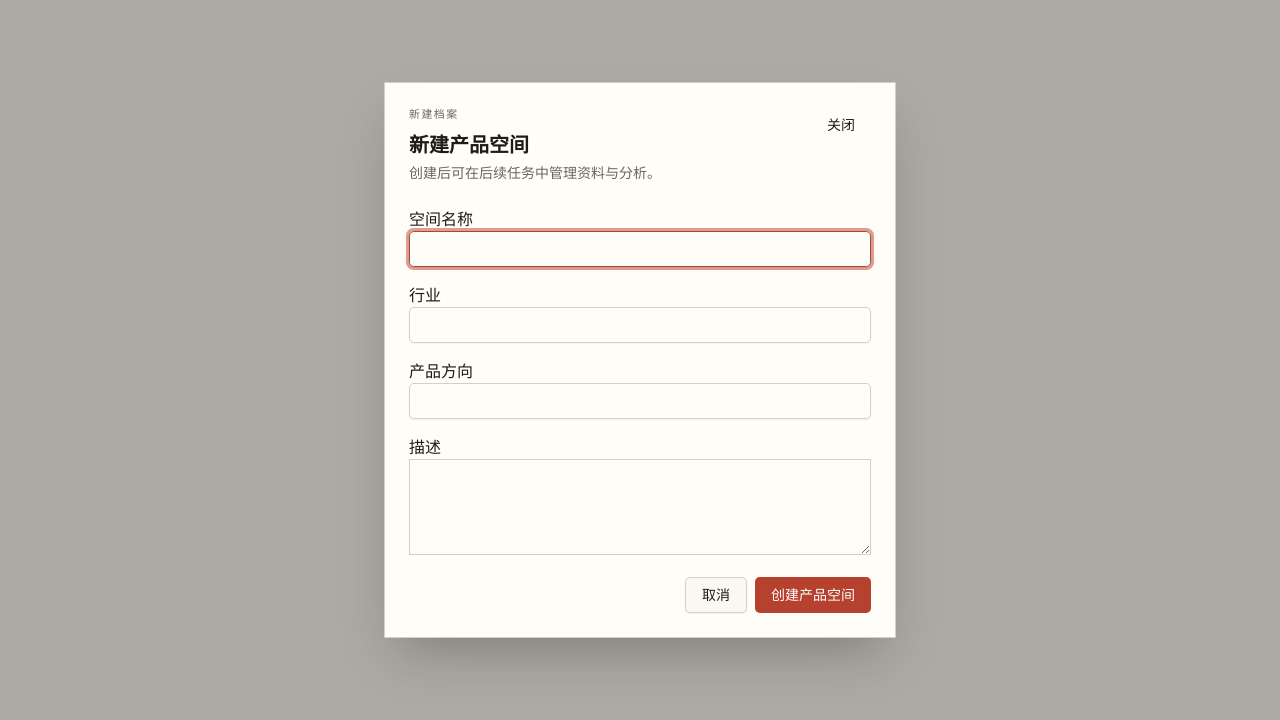
Test: SpaceCreateDialog › keeps input when the backend returns a Chinese error
The image size is (1280, 720).
In the field labelled "空间名称": [640, 249] box [409,231,871,267], type "测试空间"
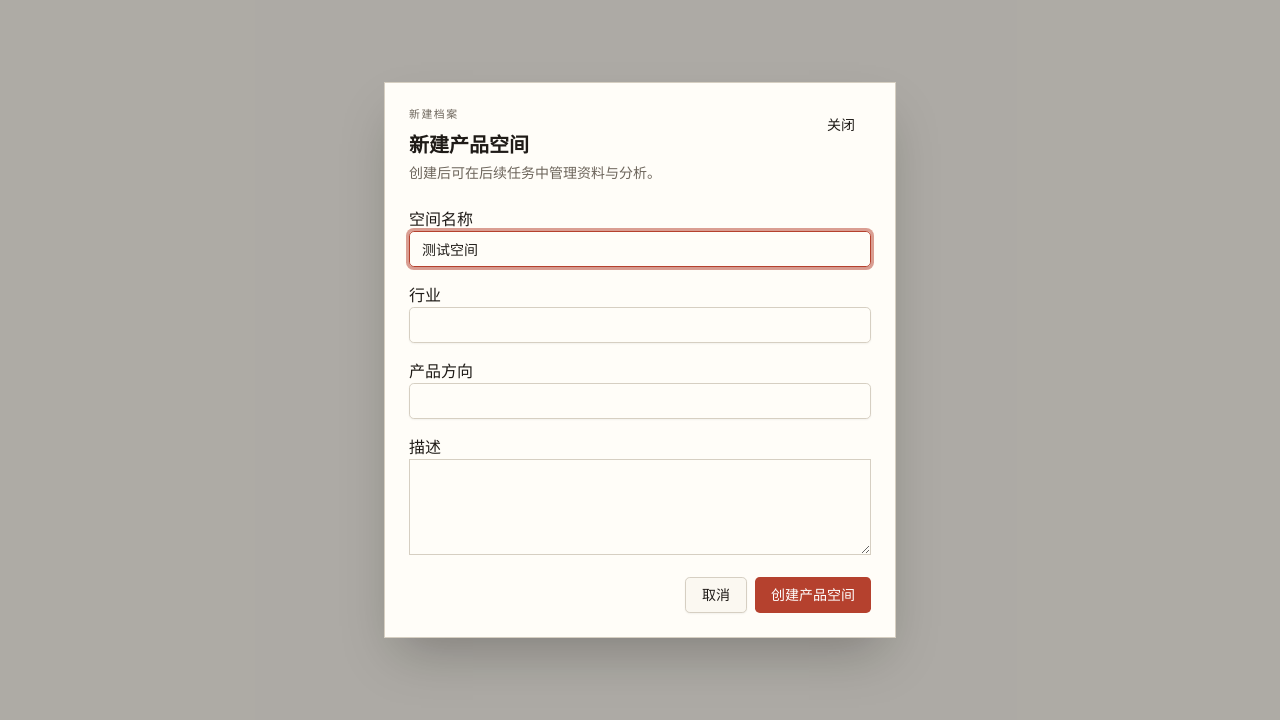
Click the button "创建产品空间": [813, 595] box [755,577,871,613]
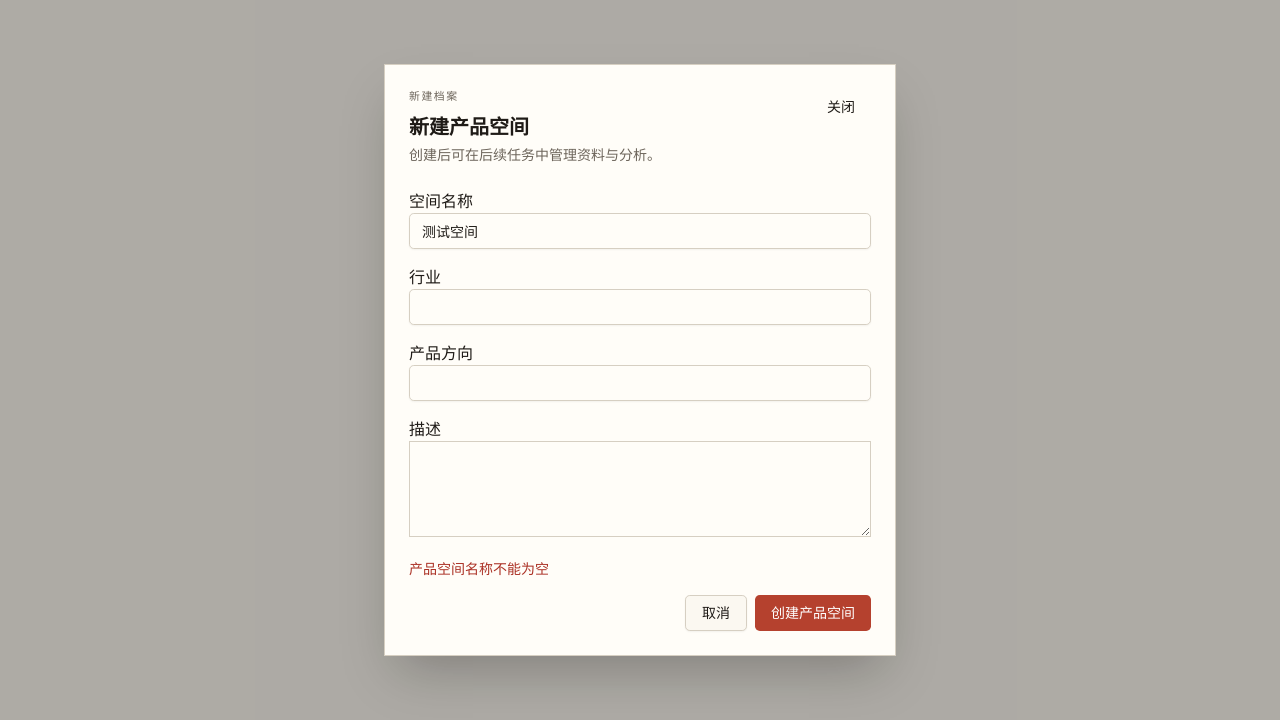
expect the message reads "产品空间名称不能为空": met, box [409,559,549,578]
